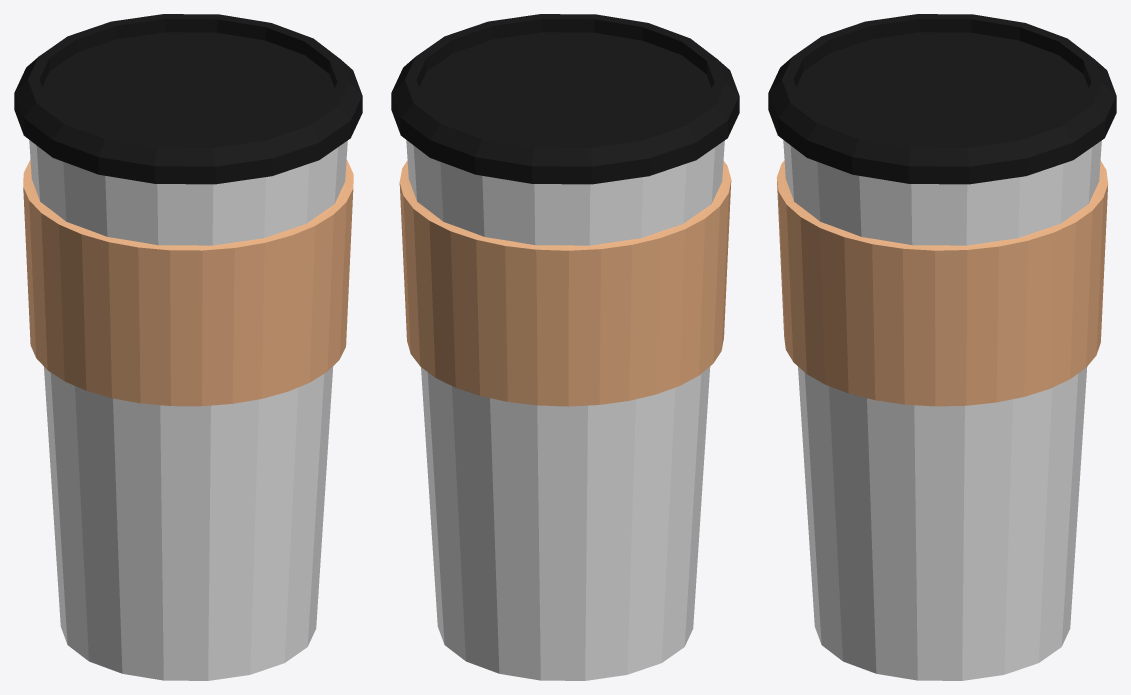
Rendered from coffee_2.glb.
3 renders of one model, left to right at view 1: azimuth 30°, elevation 25°; view 2: azimuth 150°, elevation 25°; view 3: azimuth 270°, elevation 25°, orthographic.
Parts seen in each view (by area): view 1: coffee_1; view 2: coffee_1; view 3: coffee_1.
Boxes of the visible parts, bbox=[...] form: coffee_1: bbox=[14, 14, 362, 680]; coffee_1: bbox=[391, 14, 739, 680]; coffee_1: bbox=[768, 14, 1116, 680].
Size of the model in its own units: 0.1568 by 0.275 by 0.1587.
